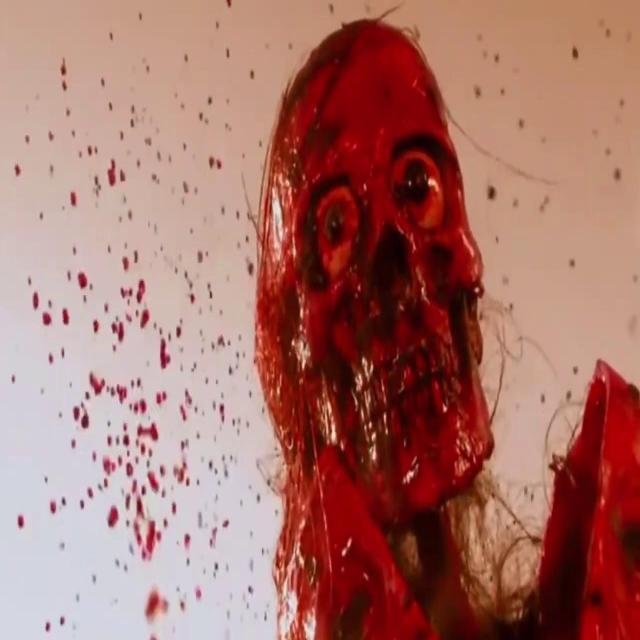flood: (220, 15, 522, 640), (28, 150, 190, 606), (560, 356, 640, 630)
